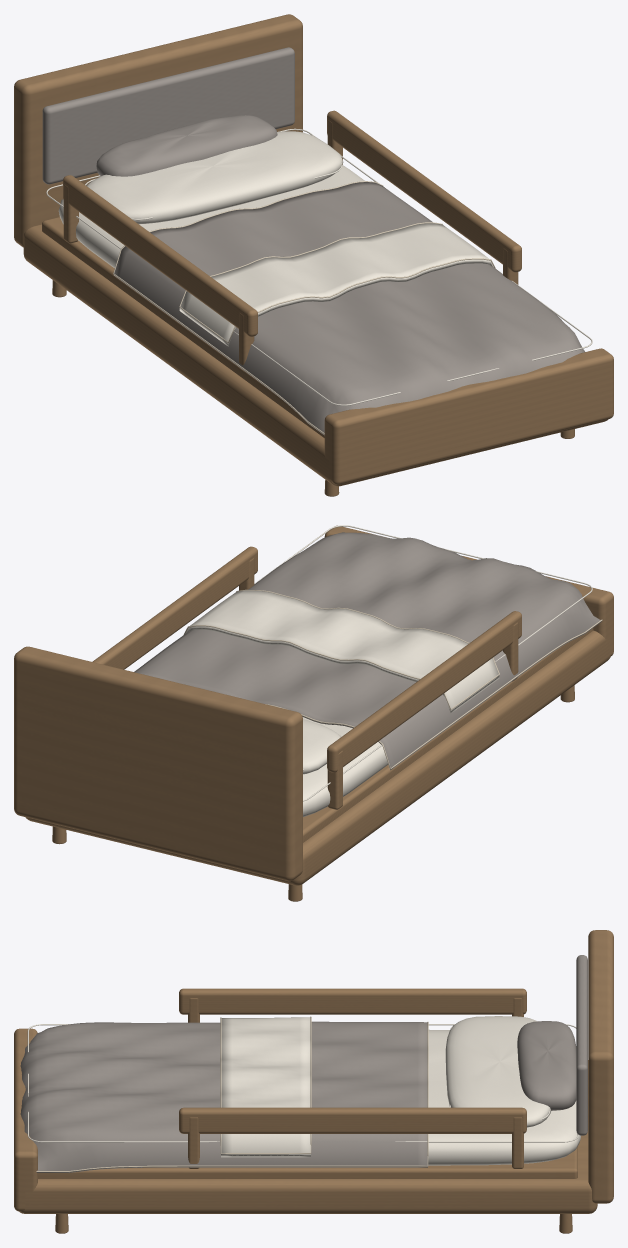
The picture shows the model from 3 angles, top to bottom: view 1: azimuth 30°, elevation 25°; view 2: azimuth 150°, elevation 25°; view 3: azimuth 270°, elevation 25°; orthographic projection. The views are drawn at different scales.
Visible parts, largest first — view 1: quilt_draped, footboard, headboard_inlay, headboard, bed_platform, throw_fold, pillow_sleep_0, side_guard_1, side_guard_-1, pillow_decor_0, mattress, bed_support (+4 smaller); view 2: headboard, quilt_draped, bed_platform, throw_fold, side_guard_-1, side_guard_1, bed_support, mattress, footboard, pillow_sleep_0, throw_fold_piping, mattress_piping (+2 smaller); view 3: quilt_draped, bed_platform, throw_fold, side_guard_1, side_guard_-1, pillow_sleep_0, headboard, bed_support, mattress, pillow_decor_0, footboard, headboard_inlay (+5 smaller).
Part boxes in pixels (x1,y1,x2,y2): quilt_draped: (114, 182, 584, 435); footboard: (324, 348, 613, 484); headboard_inlay: (42, 47, 294, 184); headboard: (14, 14, 302, 247); bed_platform: (23, 224, 607, 486); throw_fold: (179, 223, 493, 346); pillow_sleep_0: (86, 131, 343, 224); side_guard_1: (327, 110, 521, 272); side_guard_-1: (63, 175, 257, 336); pillow_decor_0: (96, 115, 277, 176); mattress: (58, 165, 365, 268); bed_support: (42, 217, 324, 437); headboard: (14, 646, 302, 881); quilt_draped: (134, 532, 601, 770); bed_platform: (25, 630, 610, 885); throw_fold: (185, 590, 499, 713); side_guard_-1: (327, 611, 521, 772); side_guard_1: (92, 546, 257, 669); bed_support: (303, 628, 593, 842); mattress: (302, 717, 388, 816); footboard: (324, 525, 613, 656); pillow_sleep_0: (303, 719, 341, 774); throw_fold_piping: (183, 589, 499, 710); mattress_piping: (254, 525, 592, 801); quilt_draped: (20, 1021, 427, 1172); bed_platform: (19, 1060, 597, 1213); throw_fold: (221, 1017, 310, 1157); side_guard_1: (179, 1107, 526, 1133); side_guard_-1: (179, 988, 526, 1014); pillow_sleep_0: (445, 1016, 551, 1127); headboard: (588, 930, 613, 1203); bed_support: (38, 1146, 577, 1178); mattress: (428, 1029, 580, 1165); pillow_decor_0: (517, 1021, 576, 1110); footboard: (14, 1028, 37, 1211); headboard_inlay: (576, 955, 587, 1135).
Size of the model in its own units: 0.8 by 0.55 by 1.6.
4 materials, 3 textured.
